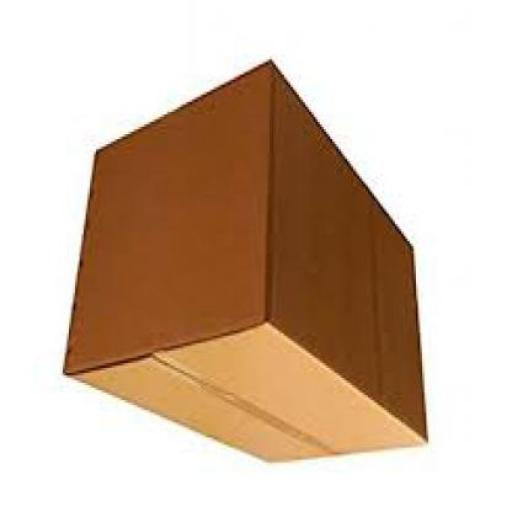cardboard: (61, 62, 426, 465)
